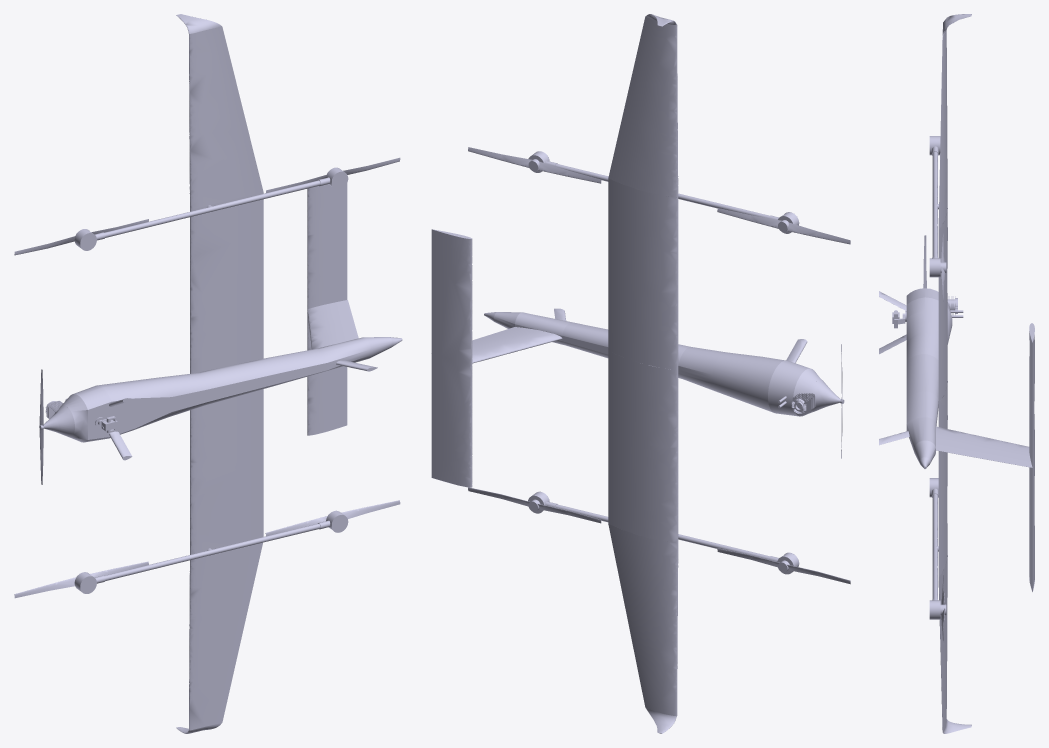
File: Huitzilin_360.glb
3 renders of one model, left to right at view 1: azimuth 30°, elevation 25°; view 2: azimuth 150°, elevation 25°; view 3: azimuth 270°, elevation 25°, orthographic.
Visible parts, largest first — view 1: HUITZILLIN_V1; view 2: HUITZILLIN_V1; view 3: HUITZILLIN_V1.
Part boxes in pixels (x1=…): HUITZILLIN_V1: x1=14, y1=14, x2=402, y2=733; HUITZILLIN_V1: x1=431, y1=14, x2=850, y2=733; HUITZILLIN_V1: x1=879, y1=14, x2=1034, y2=733.
Size of the model in its own units: 1.61 by 2.85 by 0.5657.
